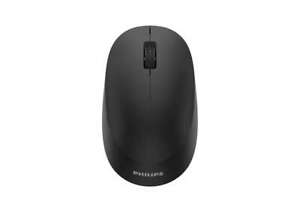mouse: (88, 24, 204, 188)
